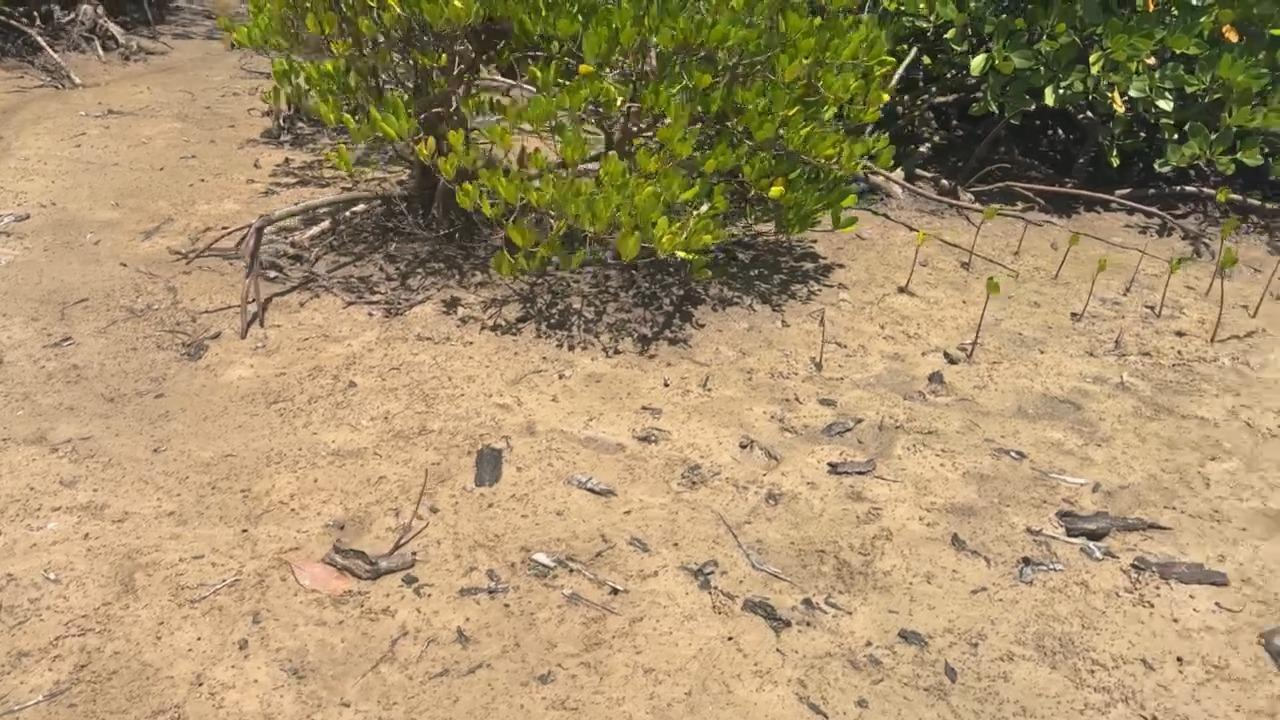Tree: (1210, 246, 1239, 341), (969, 276, 1001, 356), (1206, 218, 1239, 294), (1078, 258, 1107, 320), (1252, 258, 1280, 319), (967, 208, 993, 271), (904, 230, 930, 289), (1158, 257, 1181, 316), (1053, 235, 1079, 278), (815, 308, 825, 366), (1013, 224, 1027, 253)
